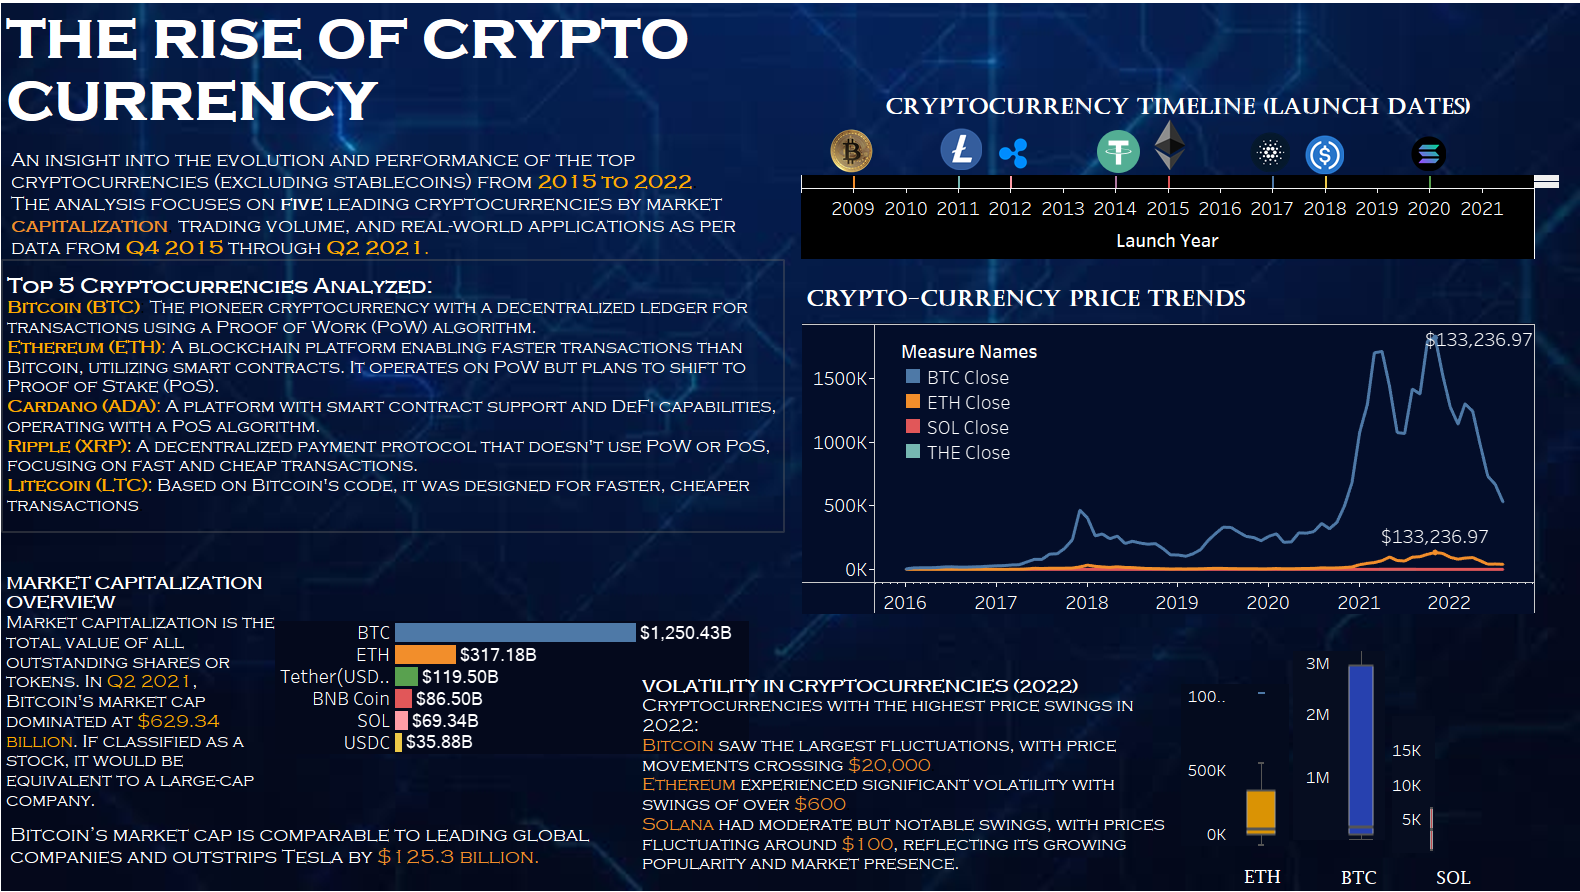

What the dashboard file says about the page in this screenshot:
{"tool":"tableau","page":{"name":"Dashboard 1","canvas":[1000,1000],"units":"permille","ordinal":0},"visuals":[{"type":"image","box":[5,8,990,984]},{"type":"text","box":[8.1,56.1,571.7,134.3]},{"type":"text","box":[556.1,132.3,410.2,54.1]},{"type":"image","box":[726.3,171.3,29.9,51.1]},{"type":"image","param":"C:/Users/selva/Downloads/[removal.ai]_fa1f4c12-d1f9-4dae-98c9-73c9657cc79b-image","box":[521.8,177.3,34.9,51.1]},{"type":"text","box":[11.2,178.4,478.8,156.3]},{"type":"image","param":"C:/Users/selva/Downloads/[removal.ai]_50ea038f-87c0-47ba-977d-87e086734e1b-image","box":[592.9,180.4,26.2,45.1]},{"type":"image","box":[690.8,182.4,31.8,43.1]},{"type":"image","box":[786.2,184.4,28.7,40.1]},{"type":"image","box":[820.5,187.4,29.3,39.1]},{"type":"image","box":[886.5,188.4,22.4,35.1]},{"type":"image","param":"C:/Users/selva/Downloads/[removal.ai]_85448aa9-1c4f-45af-b163-05fdb1eb8f2c-image","box":[624.7,189.4,26.8,39.1]},{"type":"worksheet","title":"Timeline Launch","mark":"Automatic","cols":["Launch Year"],"box":[506.2,212.4,472.6,99.2]},{"type":"text","box":[8.7,313.6,486.3,270.5]},{"type":"worksheet","title":"Closing Price","mark":"Automatic","rows":["BTC_Close"],"cols":["Date"],"box":[506.9,334.7,457,332.7]},{"type":"legend","title":"Closing Price","param":"[federated.015mp420v51ron1dwzuqb168lnvw].[:Measure Names]","box":[568.6,390.8,87.3,126.2]},{"type":"text","box":[8.1,624.2,174.6,244.5]},{"type":"worksheet","title":"Market Capital Comparison","mark":"Bar","rows":["F1"],"cols":["F2"],"box":[178.3,659.3,297.4,154.3]},{"type":"worksheet","title":"BTC Whisker plot","mark":"Circle","rows":["BTC_Close"],"box":[813,689.4,57.4,204.4]},{"type":"worksheet","title":"ETH whiskerplot","mark":"GanttBar","rows":["ETH_Close"],"box":[743.1,722.4,67.3,177.3]},{"type":"text","box":[404.6,726.5,332.9,206.4]},{"type":"worksheet","title":"SOL Whisker plot","mark":"Circle","rows":["SOL_Close"],"box":[874.7,754.5,54.9,152.3]},{"type":"text","box":[10.6,866.7,394.6,66.1]},{"type":"text","box":[779.9,915.8,37.4,30.1]},{"type":"text","box":[840.4,916.8,34.3,30.1]},{"type":"text","box":[899.6,916.8,31.2,30.1]}]}

Visuals, with their boxes on the dashboard's canvas, which has no fixed pixel size, in thousandths of its width and height (x1, y1, x2, y2). These are canvas units, not pixel positions in the 1580x892 screenshot, which may show the page scaled, cropped or inside an application window:
image: bbox(5, 8, 995, 992)
text: bbox(8, 56, 580, 190)
text: bbox(556, 132, 966, 186)
image: bbox(726, 171, 756, 222)
image: bbox(522, 177, 557, 228)
text: bbox(11, 178, 490, 335)
image: bbox(593, 180, 619, 226)
image: bbox(691, 182, 723, 226)
image: bbox(786, 184, 815, 224)
image: bbox(820, 187, 850, 226)
image: bbox(886, 188, 909, 224)
image: bbox(625, 189, 652, 228)
"Timeline Launch" worksheet: bbox(506, 212, 979, 312)
text: bbox(9, 314, 495, 584)
"Closing Price" worksheet: bbox(507, 335, 964, 667)
"Closing Price" legend: bbox(569, 391, 656, 517)
text: bbox(8, 624, 183, 869)
"Market Capital Comparison" worksheet (Bar marks): bbox(178, 659, 476, 814)
"BTC Whisker plot" worksheet (Circle marks): bbox(813, 689, 870, 894)
"ETH whiskerplot" worksheet (GanttBar marks): bbox(743, 722, 810, 900)
text: bbox(405, 726, 738, 933)
"SOL Whisker plot" worksheet (Circle marks): bbox(875, 754, 930, 907)
text: bbox(11, 867, 405, 933)
text: bbox(780, 916, 817, 946)
text: bbox(840, 917, 875, 947)
text: bbox(900, 917, 931, 947)
